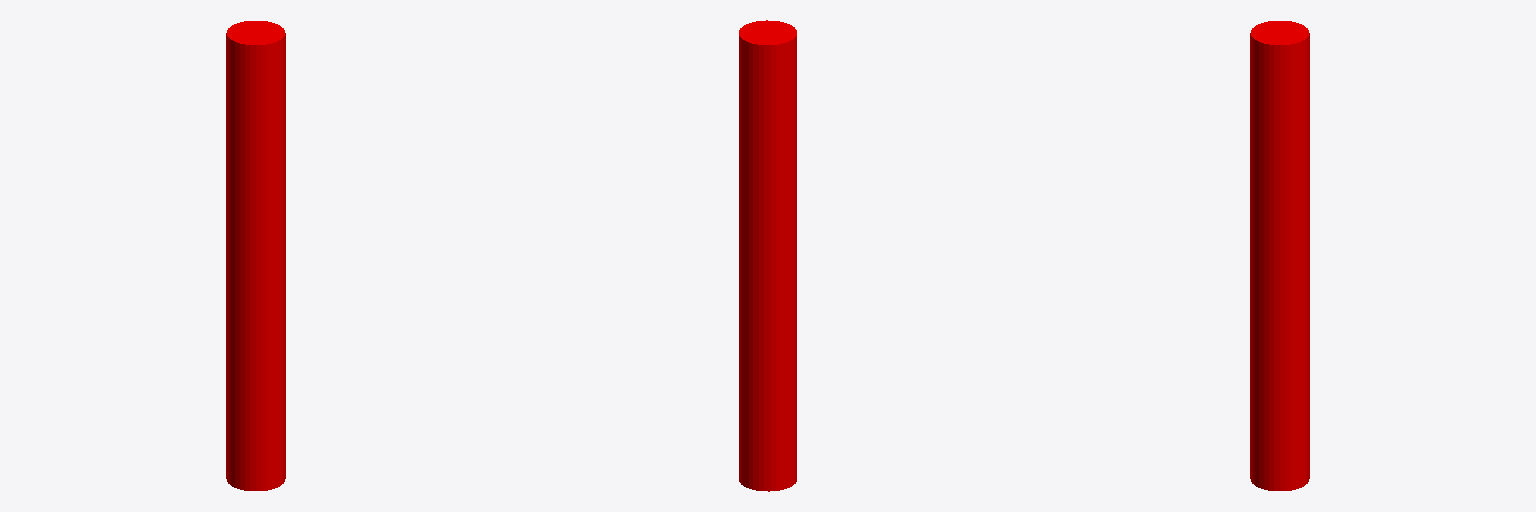
robot.urdf — red_cylinder:
<?xml version="1.0"?>
<robot name="red_cylinder">

  <link name="cylinder_link">
    <visual>
      <origin xyz="0 0 0" rpy="0 0 0"/>
      <geometry>
        <cylinder radius="0.3" length="5.0"/>
      </geometry>
      <material name="red">
        <color rgba="1 0 0 1"/>
      </material>
    </visual>
    
    <collision>
      <origin xyz="0 0 0" rpy="0 0 0"/>
      <geometry>
        <cylinder radius="0.3" length="5.0"/>
      </geometry>
    </collision>
    
    <inertial>
      <origin xyz="0 0 0" rpy="0 0 0"/>
      <mass value="1.0"/>
      <inertia ixx="0.02" ixy="0" ixz="0" iyy="0.02" iyz="0" izz="0.02"/>
    </inertial>
  </link>

</robot>

--- Render facts (derived) ---
The picture shows the robot from 3 angles, left to right: view 1: azimuth 90°, elevation 25°; view 2: azimuth 150°, elevation 25°; view 3: azimuth 270°, elevation 25°; orthographic projection.
Robot: red_cylinder — 1 links, 0 joints (none); root link cylinder_link; default pose: all joints at 0.
Visible links, largest first — view 1: cylinder_link; view 2: cylinder_link; view 3: cylinder_link.
Link boxes in pixels (x1=…): cylinder_link: x1=226, y1=21, x2=285, y2=490; cylinder_link: x1=739, y1=20, x2=796, y2=491; cylinder_link: x1=1250, y1=21, x2=1309, y2=490.
Bounding box of the posed robot: 0.6 × 0.6 × 5 m (x, y, z).
Geometry: primitives only (box / cylinder / sphere), no mesh files.